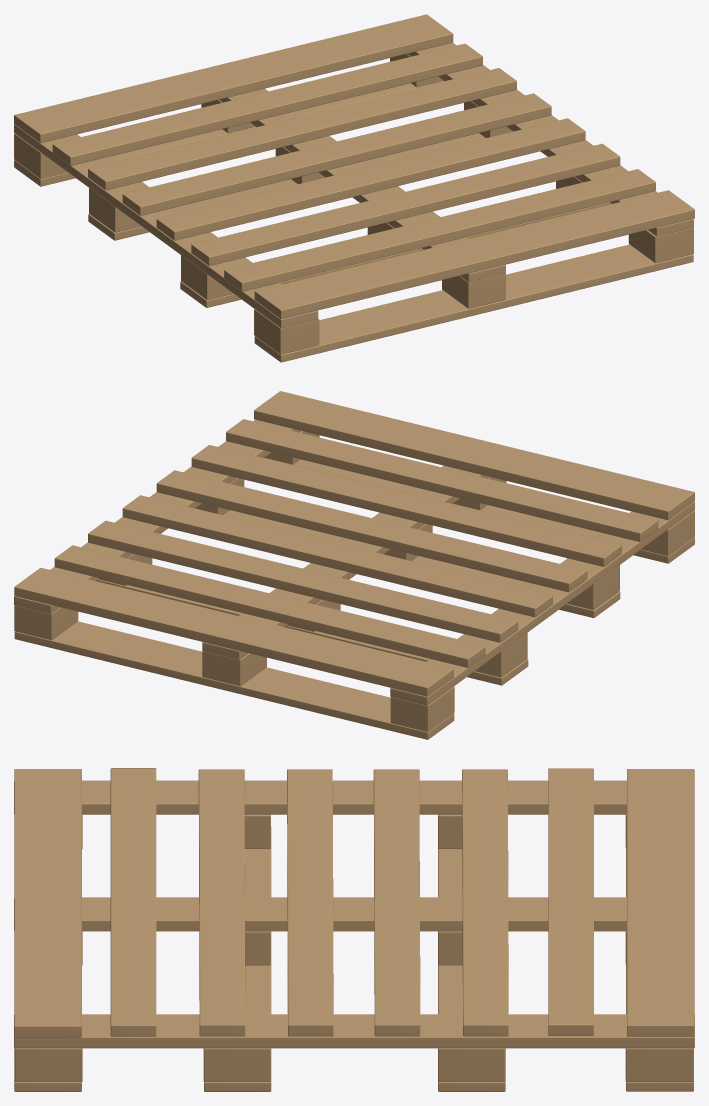
The model's file is pallet_b03.glb.
The picture shows the model from 3 angles, top to bottom: view 1: azimuth 30°, elevation 25°; view 2: azimuth 150°, elevation 25°; view 3: azimuth 270°, elevation 25°; orthographic projection. The views are drawn at different scales.
Size of the model in its own units: 1.73 by 0.2087 by 1.93.
